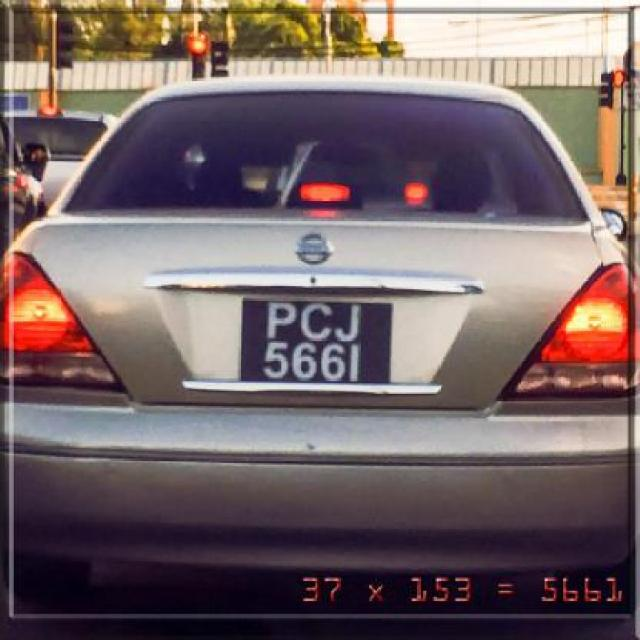License-Plates: (240, 298, 396, 385)
